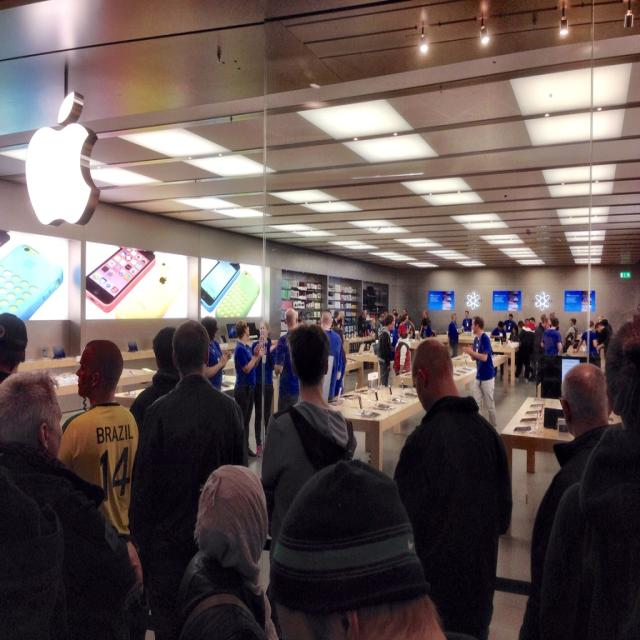Hat: (0, 312, 28, 351)
